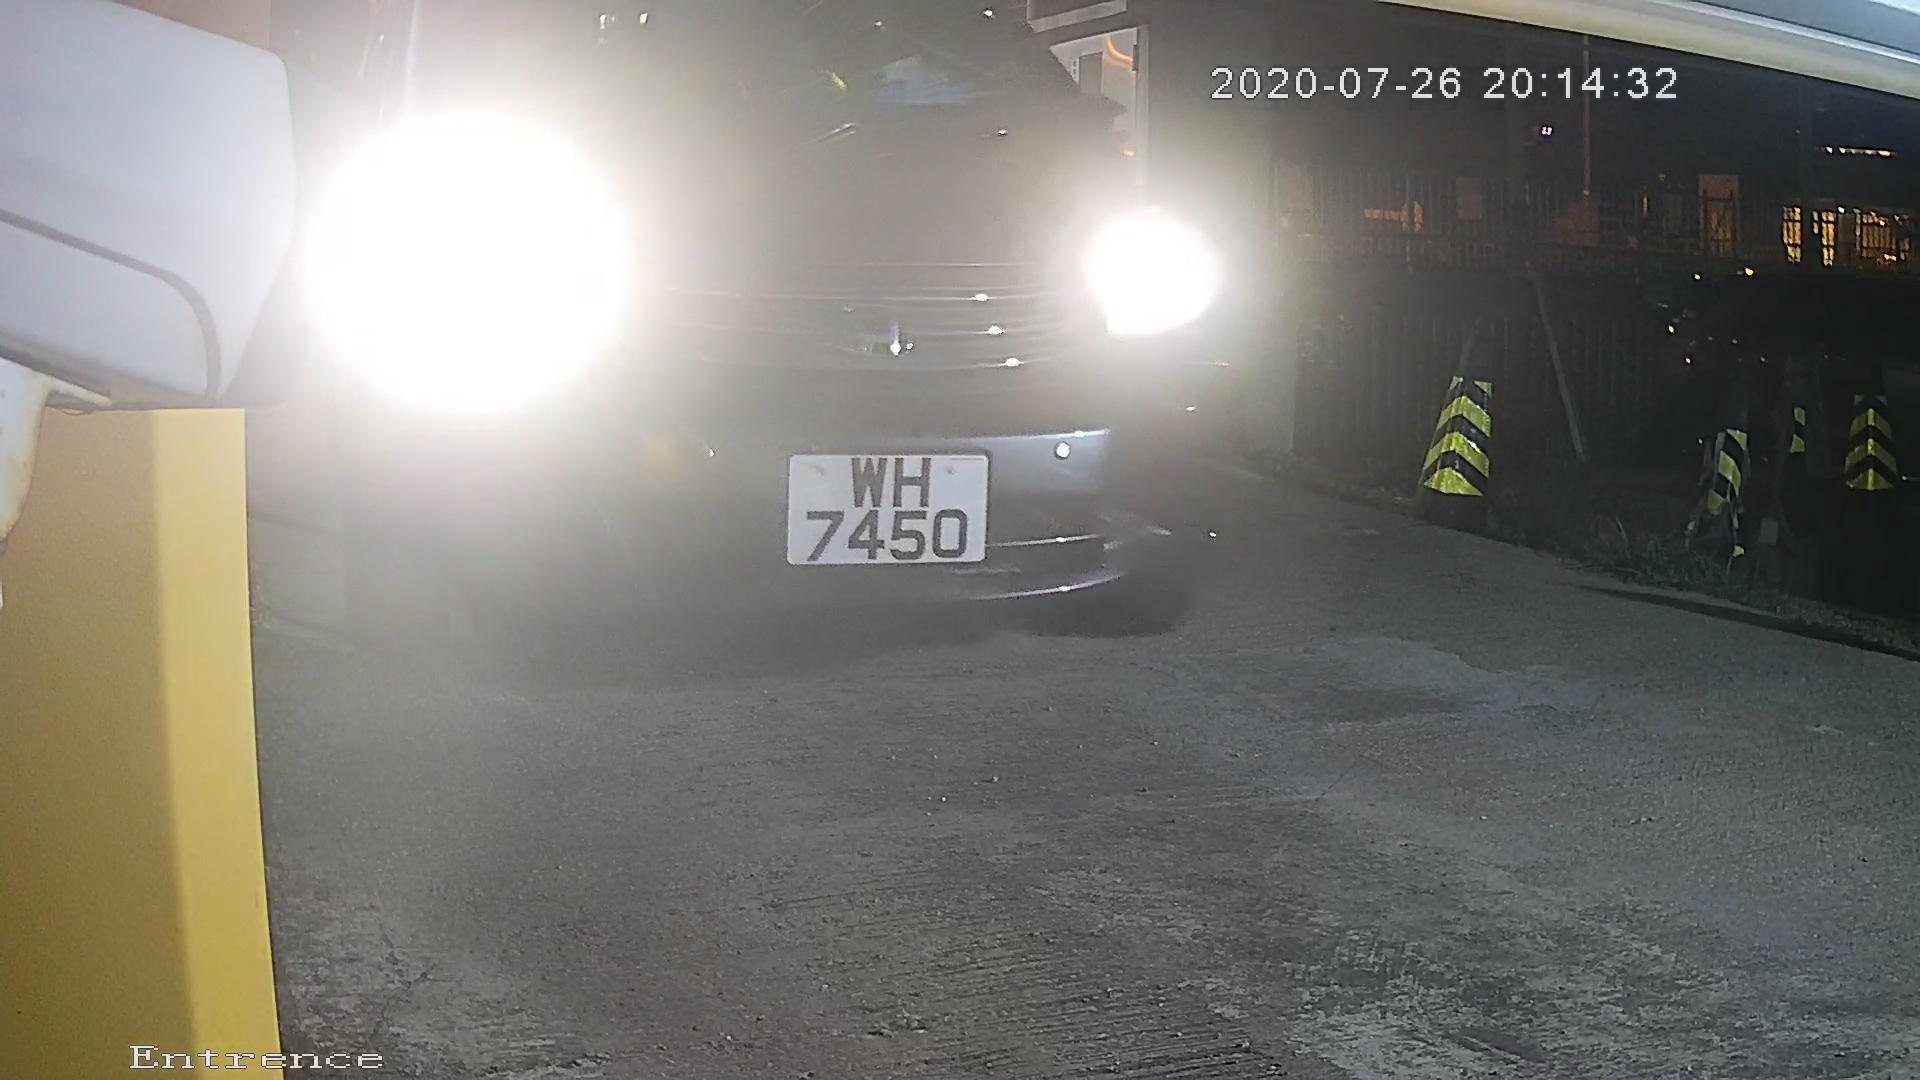Car: (78, 39, 1449, 772)
License Plate: (746, 420, 1012, 589)
